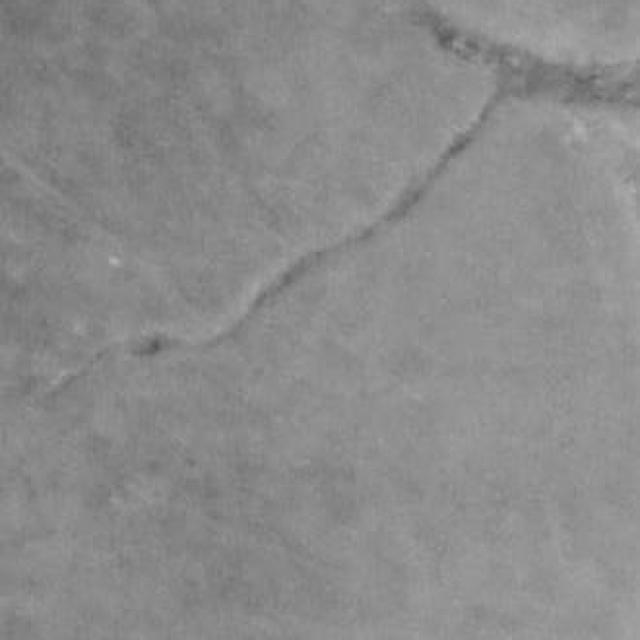crack: (47, 1, 639, 394), (43, 91, 500, 396), (414, 1, 639, 107)
